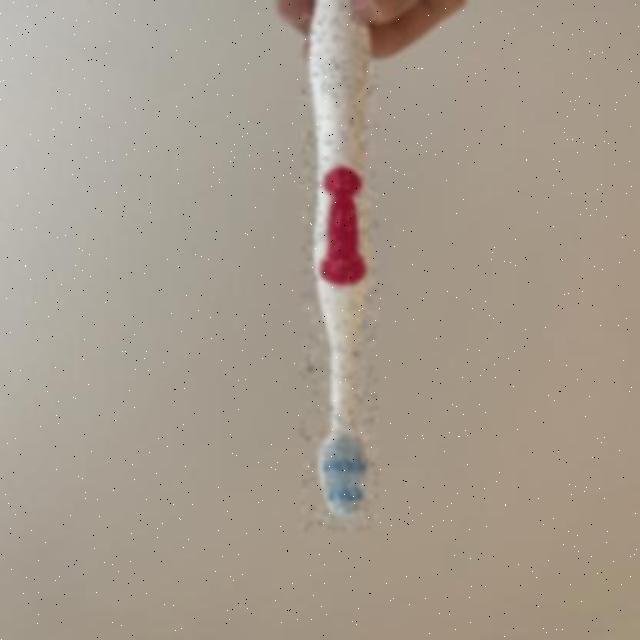toothbrush: (302, 1, 376, 530)
